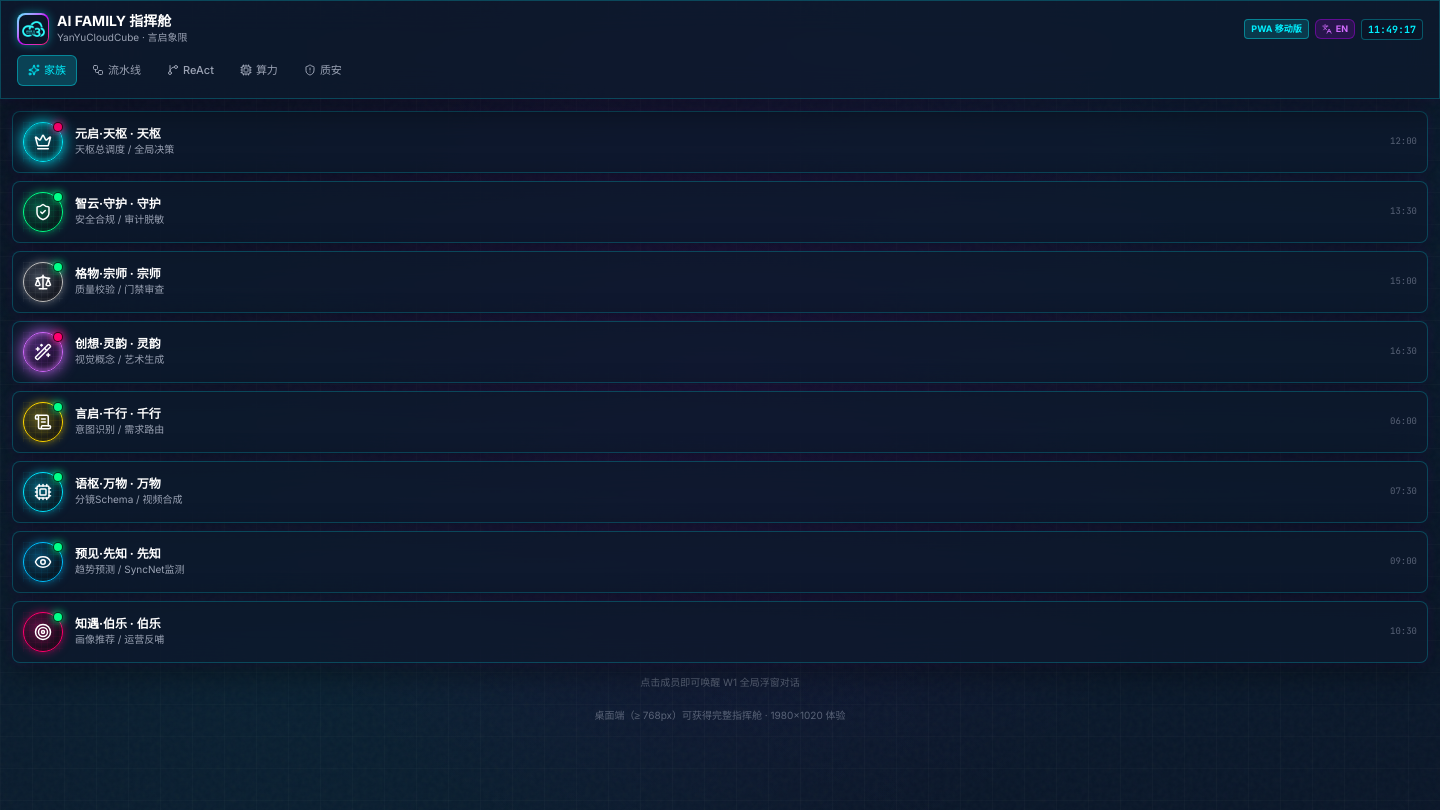
it: MobileFallback（移动端降级视图） › 流水线 Tab：六阶段精简卡渲染
What coordinates should you click on to do the following:
click the button "流水线"
I would click on:
 (116, 70)
Its box is [81, 55, 152, 86].
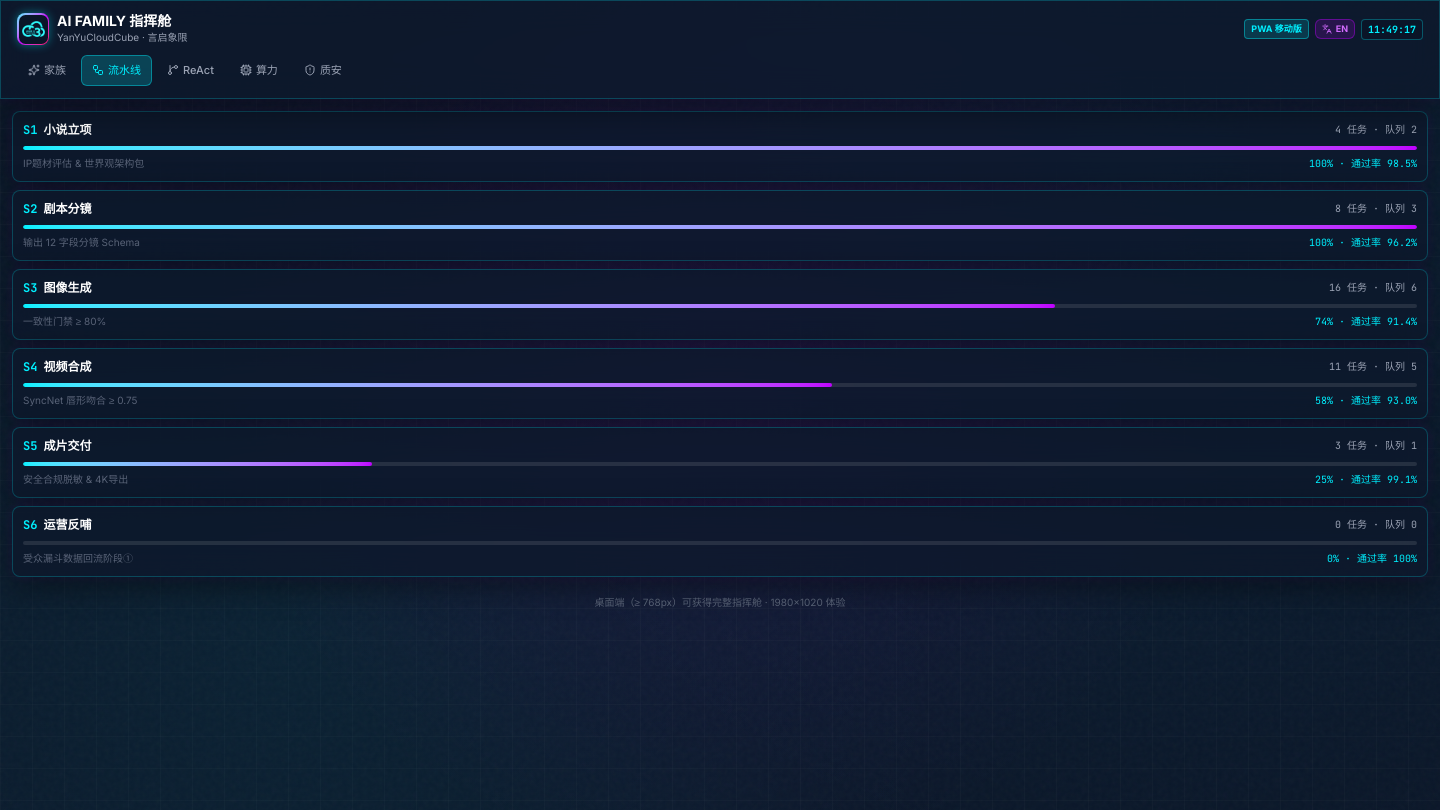
Expected: the text "S1" is shown, [23, 122, 37, 138]
Expected: the text "S6" is shown, [23, 516, 37, 532]
